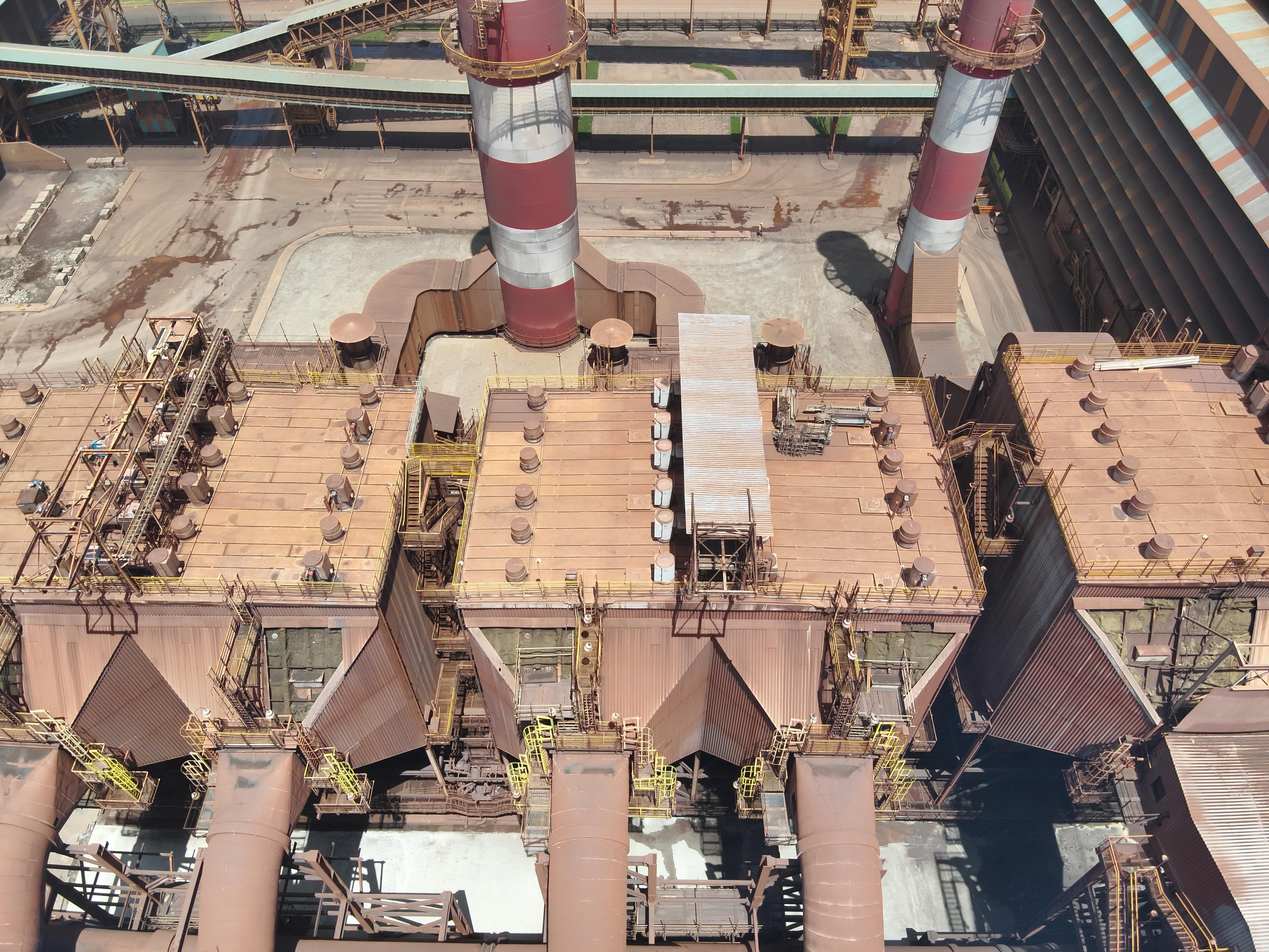Failures: (1083, 598, 1263, 733), (258, 623, 347, 738), (851, 627, 956, 712), (471, 618, 582, 696)
